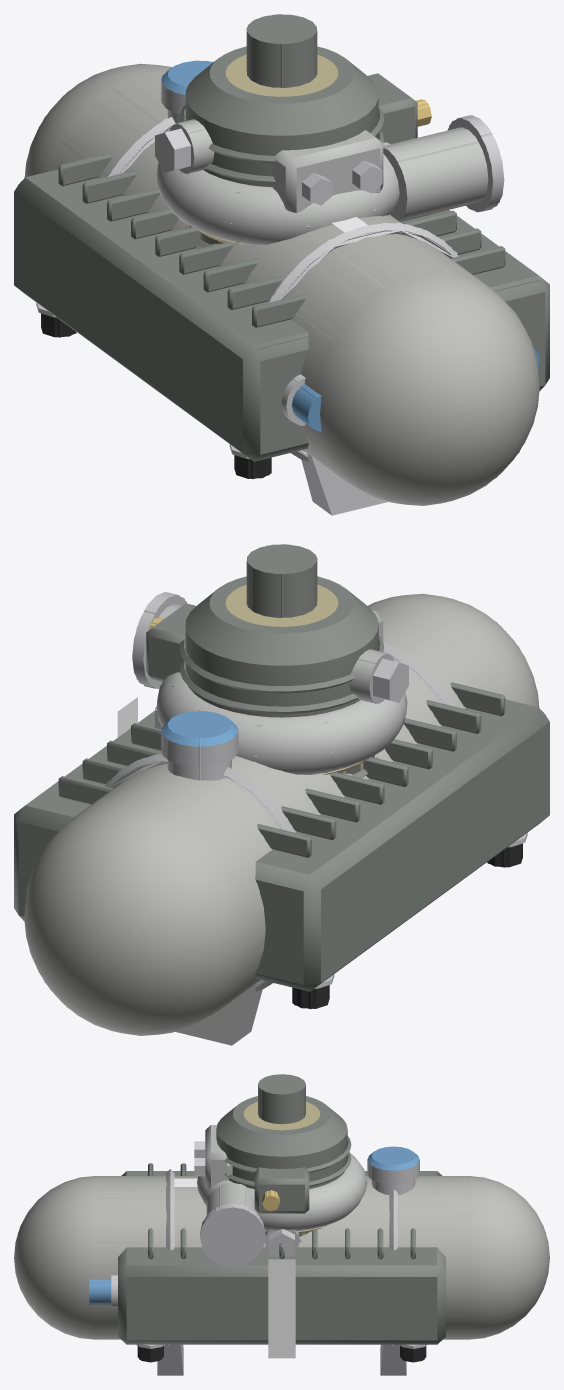
The model's file is kit.glb.
3 renders of one model, top to bottom at view 1: azimuth 30°, elevation 25°; view 2: azimuth 150°, elevation 25°; view 3: azimuth 270°, elevation 25°, orthographic. The views are drawn at different scales.
Parts seen in each view (by area): view 1: KIT_oilTank_L0, KIT_fadec_L0, KIT_fadec_L2, KIT_generator_L0, KIT_starter_L0, KIT_oilTank_L1, KIT_pump_L0, KIT_hydPump_L0, KIT_oilTank_L2, KIT_generator_L1, KIT_generator_L2, KIT_starter_L1 (+6 smaller); view 2: KIT_oilTank_L0, KIT_fadec_L0, KIT_fadec_L2, KIT_generator_L0, KIT_starter_L0, KIT_oilTank_L1, KIT_pump_L0, KIT_oilTank_L2, KIT_generator_L1, KIT_generator_L2, KIT_pump_L1, KIT_starter_L1 (+1 smaller); view 3: KIT_oilTank_L0, KIT_fadec_L0, KIT_generator_L0, KIT_starter_L0, KIT_oilTank_L1, KIT_oilTank_L2, KIT_starter_L1, KIT_generator_L2, KIT_pump_L0, KIT_generator_L1, KIT_starter_L2, KIT_hydPump_L0 (+2 smaller).
Part boxes in pixels (box(x1,y1,x2,y2)): KIT_oilTank_L0: box(24, 60, 539, 515); KIT_fadec_L0: box(14, 152, 549, 478); KIT_fadec_L2: box(14, 192, 545, 454); KIT_generator_L0: box(180, 14, 431, 247); KIT_starter_L0: box(156, 115, 504, 244); KIT_oilTank_L1: box(29, 61, 539, 502); KIT_pump_L0: box(155, 54, 338, 244); KIT_hydPump_L0: box(272, 143, 383, 212); KIT_oilTank_L2: box(41, 60, 539, 515); KIT_generator_L1: box(186, 14, 428, 245); KIT_generator_L2: box(186, 14, 417, 183); KIT_starter_L1: box(158, 115, 499, 242); KIT_oilTank_L0: box(24, 593, 539, 1045); KIT_fadec_L0: box(14, 682, 549, 1008); KIT_fadec_L2: box(18, 722, 549, 984); KIT_generator_L0: box(147, 544, 383, 777); KIT_starter_L0: box(132, 592, 407, 774); KIT_oilTank_L1: box(25, 594, 534, 1032); KIT_pump_L0: box(155, 584, 408, 774); KIT_oilTank_L2: box(24, 602, 522, 1045); KIT_generator_L1: box(151, 545, 377, 775); KIT_generator_L2: box(146, 544, 377, 716); KIT_pump_L1: box(226, 584, 392, 773); KIT_starter_L1: box(136, 592, 405, 772); KIT_oilTank_L0: box(14, 1146, 549, 1375); KIT_fadec_L0: box(89, 1163, 445, 1362); KIT_generator_L0: box(216, 1074, 351, 1242); KIT_starter_L0: box(197, 1153, 367, 1266); KIT_oilTank_L1: box(17, 1146, 546, 1346); KIT_oilTank_L2: box(24, 1148, 539, 1374); KIT_starter_L1: box(198, 1160, 365, 1265); KIT_generator_L2: box(219, 1089, 344, 1212); KIT_pump_L0: box(243, 1101, 323, 1256); KIT_generator_L1: box(217, 1074, 346, 1210); KIT_starter_L2: box(201, 1156, 362, 1262); KIT_hydPump_L0: box(194, 1141, 228, 1188).
Bounding box in the file's own units: 0.226 × 0.2804 × 0.49.
